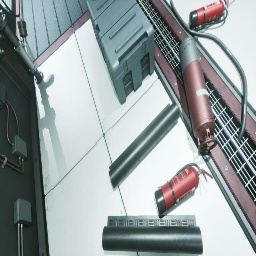FireExtinguisher ]: (154, 163, 213, 216), (189, 0, 229, 31)
NitrogenTank ,: (178, 37, 218, 152)
